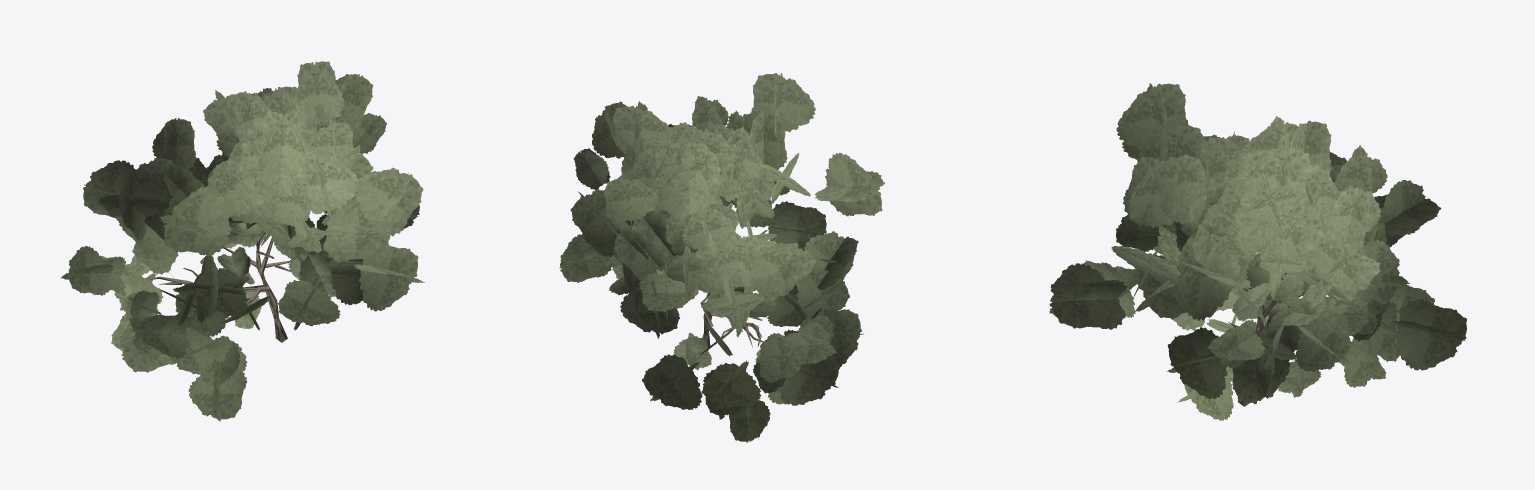
Rendered from olivo-muybajo.glb.
3 renders of one model, left to right at view 1: azimuth 30°, elevation 25°; view 2: azimuth 150°, elevation 25°; view 3: azimuth 270°, elevation 25°, orthographic. The views are drawn at different scales.
Parts seen in each view (by area): view 1: olivo; view 2: olivo; view 3: olivo.
Part boxes in pixels (x1,y1,x2,y2): olivo: (61,61,424,421); olivo: (559,73,884,442); olivo: (1049,83,1466,420).
Size of the model in its own units: 8.93 by 9.08 by 9.77.
2 materials, 1 textured.
